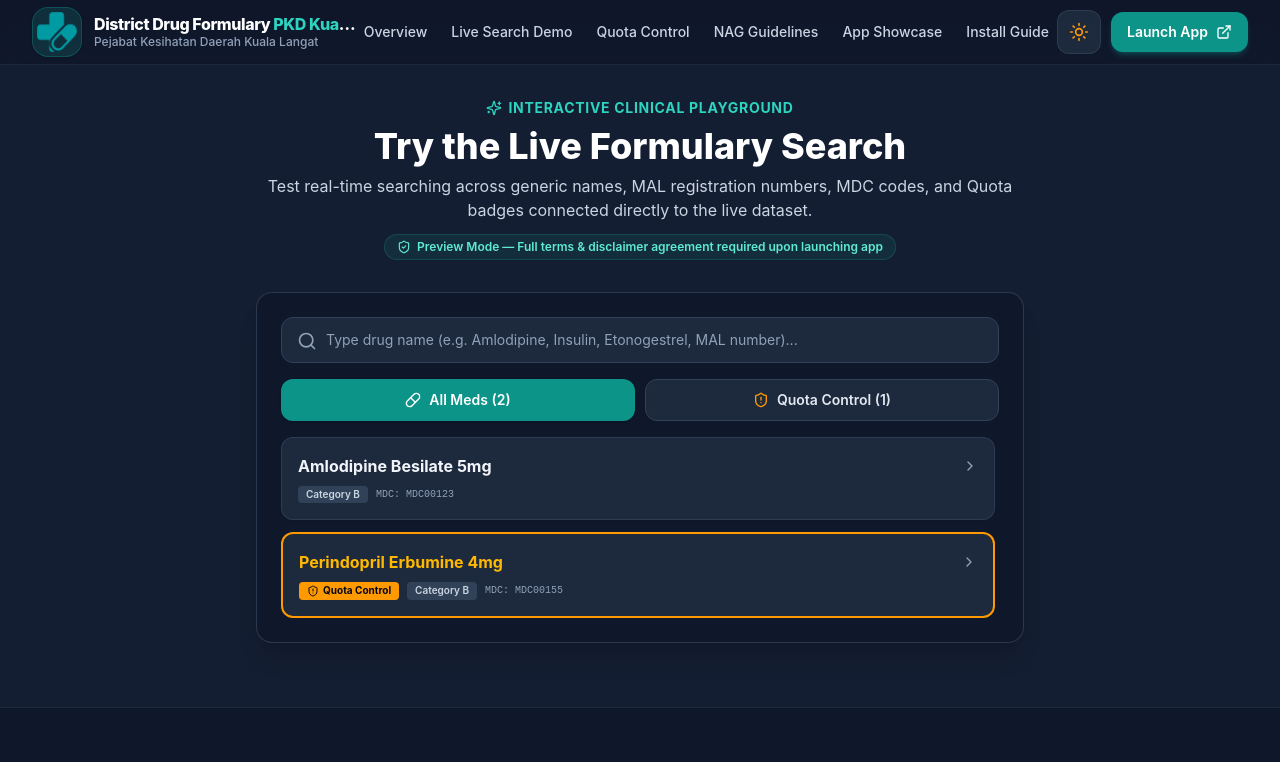
IntroPage component › toggles quota filter in live search playground
The width and height of the screenshot is (1280, 762).
(page scrolled)
Click the button "Quota Control (1)".
click(822, 400)  # box [645,379,999,421]
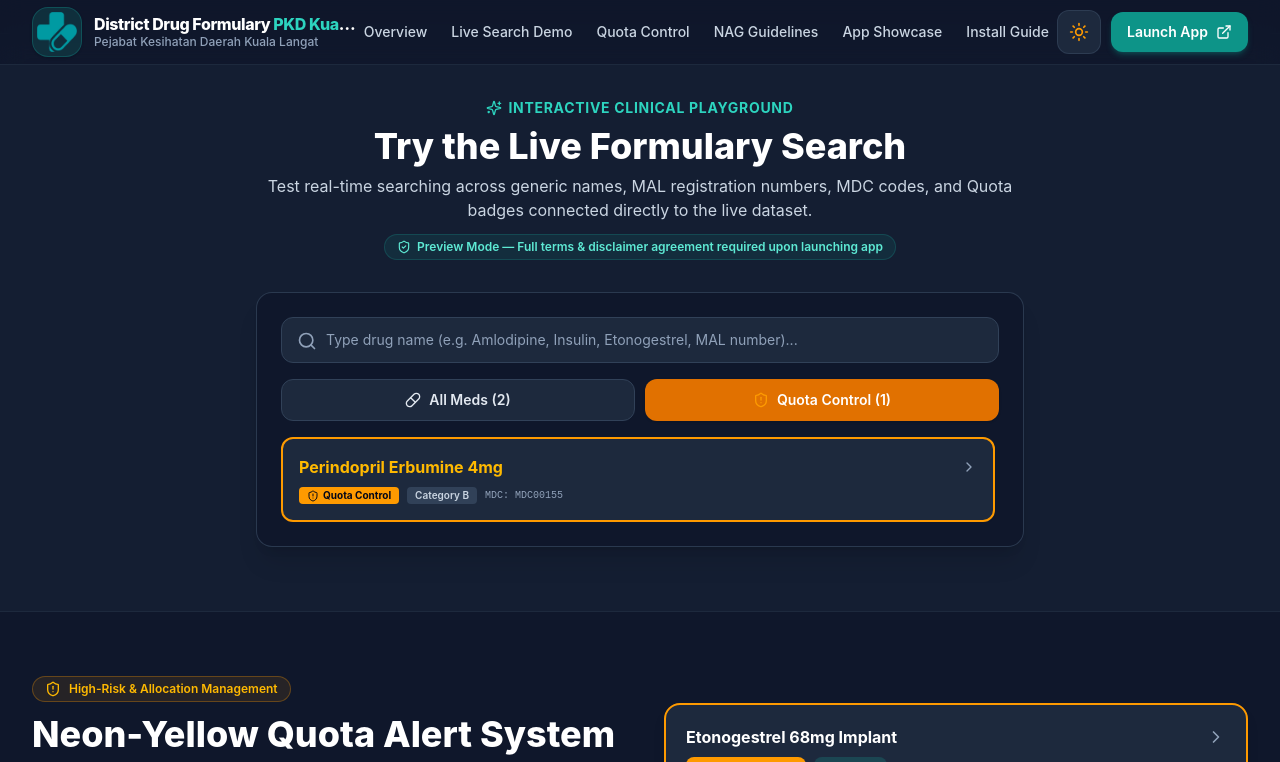
expect the heading "Perindopril Erbumine 4mg" is shown: met, box [299,455,503,479]
expect the button "Amlodipine Besilate 5mg" is gone: met
